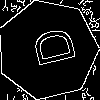D: (23, 25, 77, 71)
